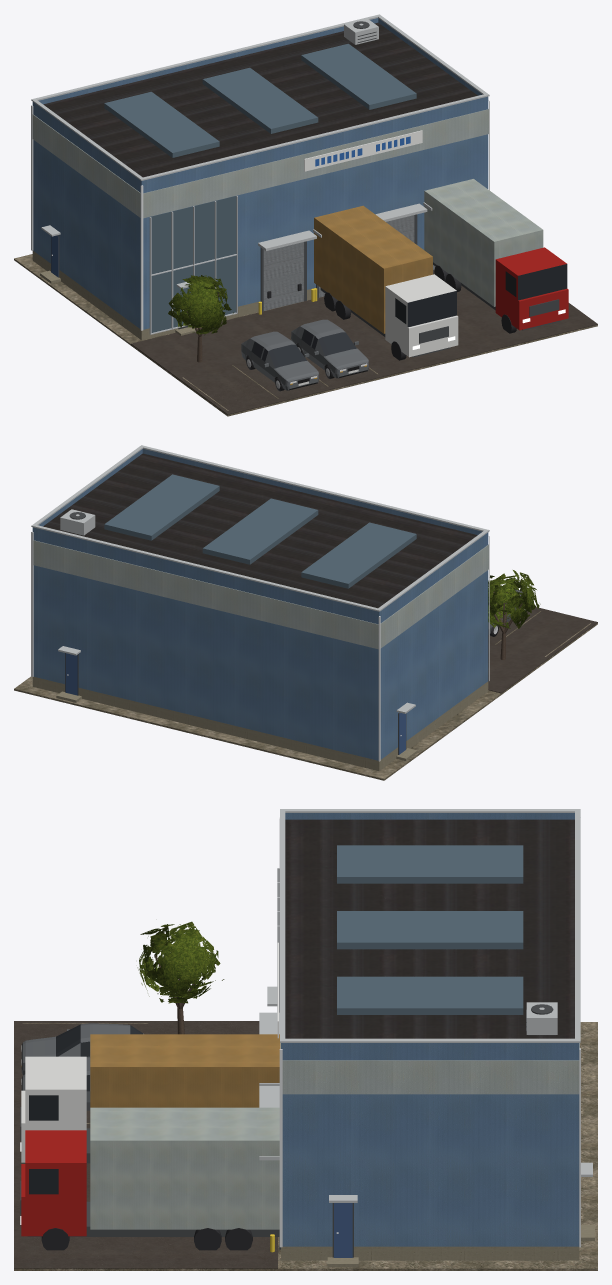
Rendered from depot_cladded.glb.
3 views of the same model, one above another, from view 1: azimuth 30°, elevation 25°; view 2: azimuth 150°, elevation 25°; view 3: azimuth 270°, elevation 25° (orthographic). The views are drawn at different scales.
Visible parts, largest first — view 1: depot_cladded_body, depot_cladded_foliage; view 2: depot_cladded_body, depot_cladded_foliage; view 3: depot_cladded_body, depot_cladded_foliage.
Boxes of the visible parts, left/top/right/bottom form: depot_cladded_body: left=14, top=14, right=597, bottom=416; depot_cladded_foliage: left=168, top=275, right=233, bottom=335; depot_cladded_body: left=14, top=445, right=597, bottom=780; depot_cladded_foliage: left=488, top=570, right=540, bottom=628; depot_cladded_body: left=14, top=809, right=597, bottom=1270; depot_cladded_foliage: left=137, top=921, right=224, bottom=1003.
Size of the model in its own units: 0.94 by 0.4145 by 0.94.
Materials: 32 (13 with a texture image).
